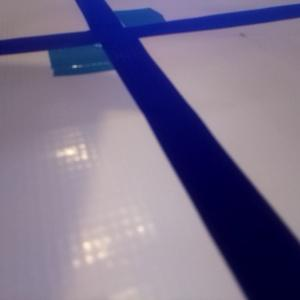bottom_left: (47, 35, 138, 76)
top_right: (90, 6, 165, 34)
